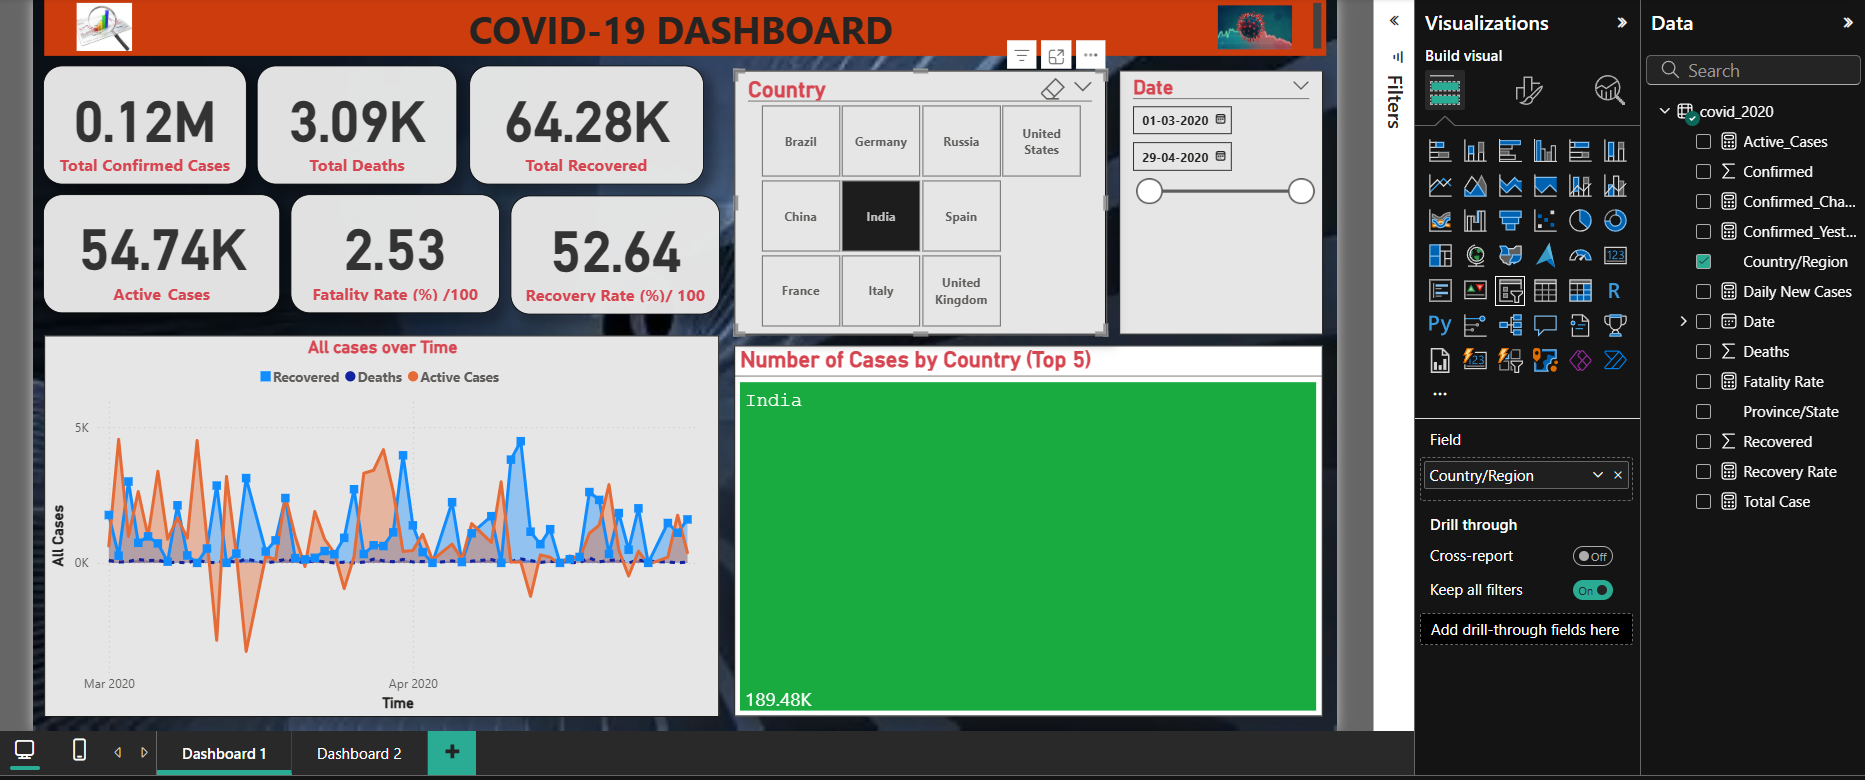

The page's visual inventory and layout, read from the dashboard file:
{"tool":"powerbi","page":{"name":"Dashboard 1","canvas":[1280,720],"ordinal":0},"visuals":[{"type":"textbox","box":[11.4,0,1258.6,57.1],"z":0},{"type":"image","box":[1158.6,0,82.9,57.1],"z":1000},{"type":"image","box":[38.6,0,64.3,57.1],"z":2000},{"type":"card","fields":{"Values":["Sum(covid_2020.Confirmed)"]},"box":[10,65.7,200,117.1],"z":3000},{"type":"card","fields":{"Values":["Sum(covid_2020.Deaths)"]},"box":[220,65.7,197.1,117.1],"z":4000},{"type":"card","fields":{"Values":["Sum(covid_2020.Recovered)"]},"box":[428.6,65.7,230,117.1],"z":5000},{"type":"card","fields":{"Values":["covid_2020.Active_Cases"]},"box":[10,192.9,232.9,117.1],"z":6000},{"type":"card","fields":{"Values":["covid_2020.Fatality Rate"]},"box":[252.9,192.9,205.7,117.1],"z":7000},{"type":"card","fields":{"Values":["covid_2020.Recovery Rate"]},"box":[468.6,194.3,205.7,117.1],"z":8000},{"type":"slicer","fields":{"Values":["covid_2020.Country/Region"]},"box":[688.9,71.4,365,259.3],"z":10000},{"type":"slicer","fields":{"Values":["covid_2020.Date"]},"box":[1066.2,71.4,200.3,259.3],"z":11000},{"type":"treemap","title":"Number of Cases by Country (Top 5)","fields":{"Group":["covid_2020.Country/Region"],"Values":["covid_2020.Total Case"]},"box":[688.9,341.7,577.7,363.6],"z":12000},{"type":"areaChart","title":"All cases over Time","fields":{"Y":["Sum(covid_2020.Recovered)","Sum(covid_2020.Deaths)","covid_2020.Active_Cases"],"Category":["covid_2020.Date"]},"box":[11,330.7,662.8,374.6],"z":12001}]}

Visuals, with their boxes in screenshot pixels (x1, y1, x2, y2):
textbox: left=31, top=0, right=1331, bottom=49
image: left=1216, top=0, right=1302, bottom=49
image: left=59, top=0, right=126, bottom=49
card - Sum(covid_2020.Confirmed): left=30, top=58, right=236, bottom=179
card - Sum(covid_2020.Deaths): left=247, top=58, right=450, bottom=179
card - Sum(covid_2020.Recovered): left=462, top=58, right=700, bottom=179
card - covid_2020.Active_Cases: left=30, top=190, right=270, bottom=311
card - covid_2020.Fatality Rate: left=281, top=190, right=493, bottom=311
card - covid_2020.Recovery Rate: left=504, top=191, right=716, bottom=312
slicer - covid_2020.Country/Region: left=731, top=64, right=1108, bottom=332
slicer - covid_2020.Date: left=1121, top=64, right=1328, bottom=332
"Number of Cases by Country (Top 5)" treemap: left=731, top=343, right=1328, bottom=719
"All cases over Time" areaChart: left=31, top=332, right=715, bottom=719
